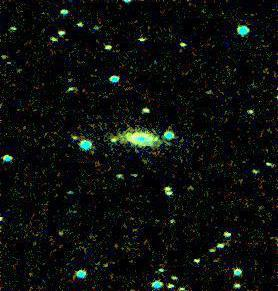star: (141, 123, 171, 153)
